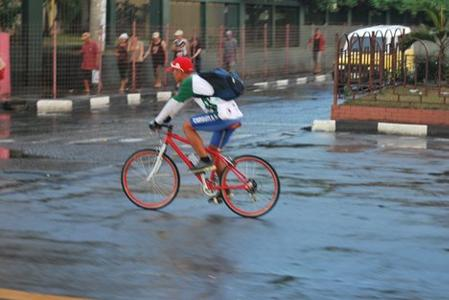person: (149, 55, 247, 200)
